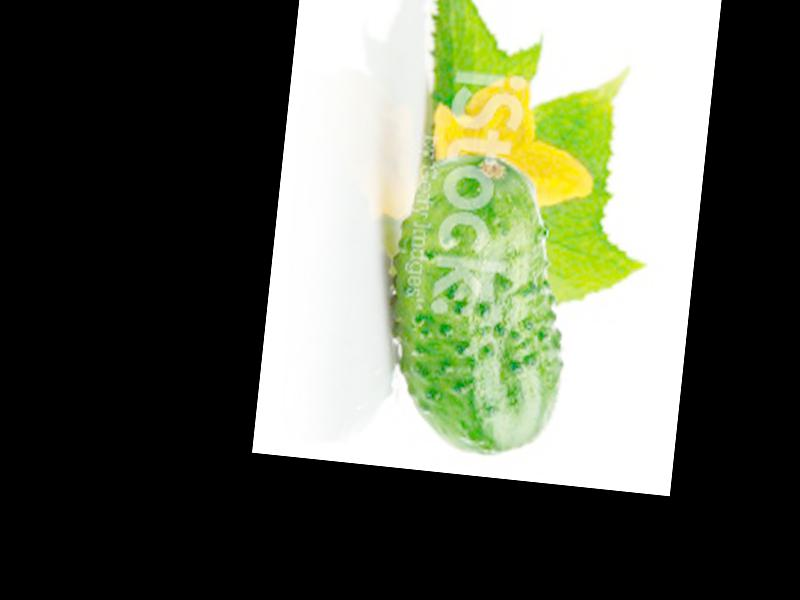Cucumber: (377, 151, 582, 462)
